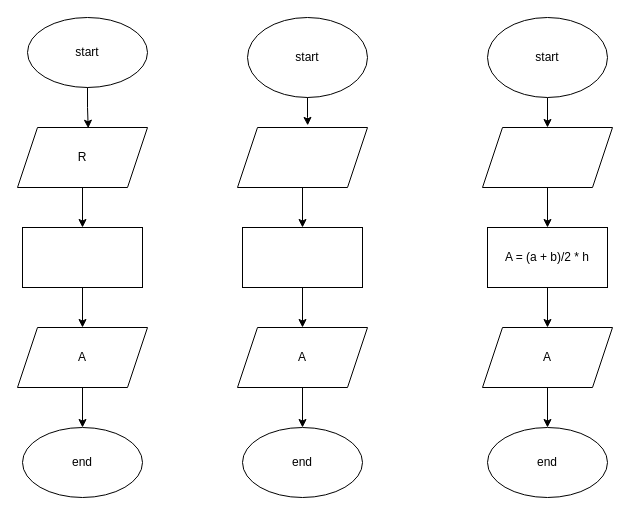
Some shapes in this 630 by 515 pixel diagram are drawn without their labels. The shapes that lost their labels are listed below. From the top down, each one's centre as x and y in pixels, then its label:
the point at 302,157: b, h
the point at 547,157: a, b, h
the point at 82,257: A = 3.14 * (R * R)
the point at 302,257: A = b * h
